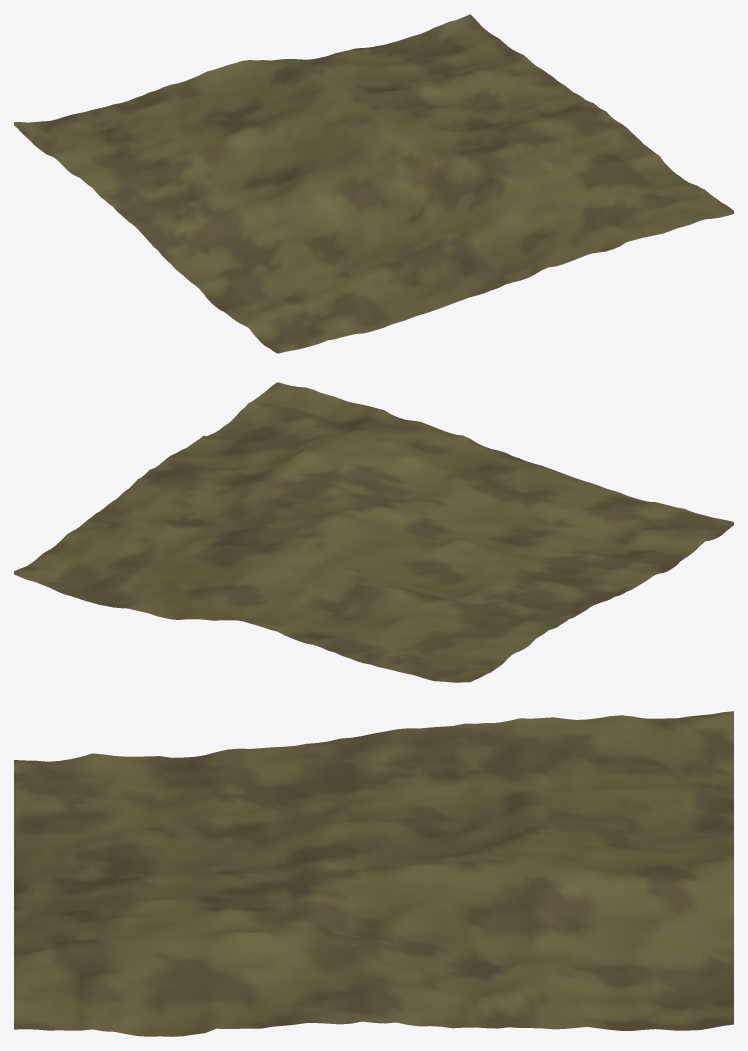
Rendered from land_f_06_02.glb.
The picture shows the model from 3 angles, top to bottom: view 1: azimuth 30°, elevation 25°; view 2: azimuth 150°, elevation 25°; view 3: azimuth 270°, elevation 25°; orthographic projection. The views are drawn at different scales.
Visible parts, largest first — view 1: land_f_06_02; view 2: land_f_06_02; view 3: land_f_06_02.
Boxes of the visible parts, <box> form: land_f_06_02: <box>14,14,733,353</box>; land_f_06_02: <box>14,382,733,682</box>; land_f_06_02: <box>14,711,733,1036</box>.
Bounding box in the file's own units: 3840 × 419 × 3840.
